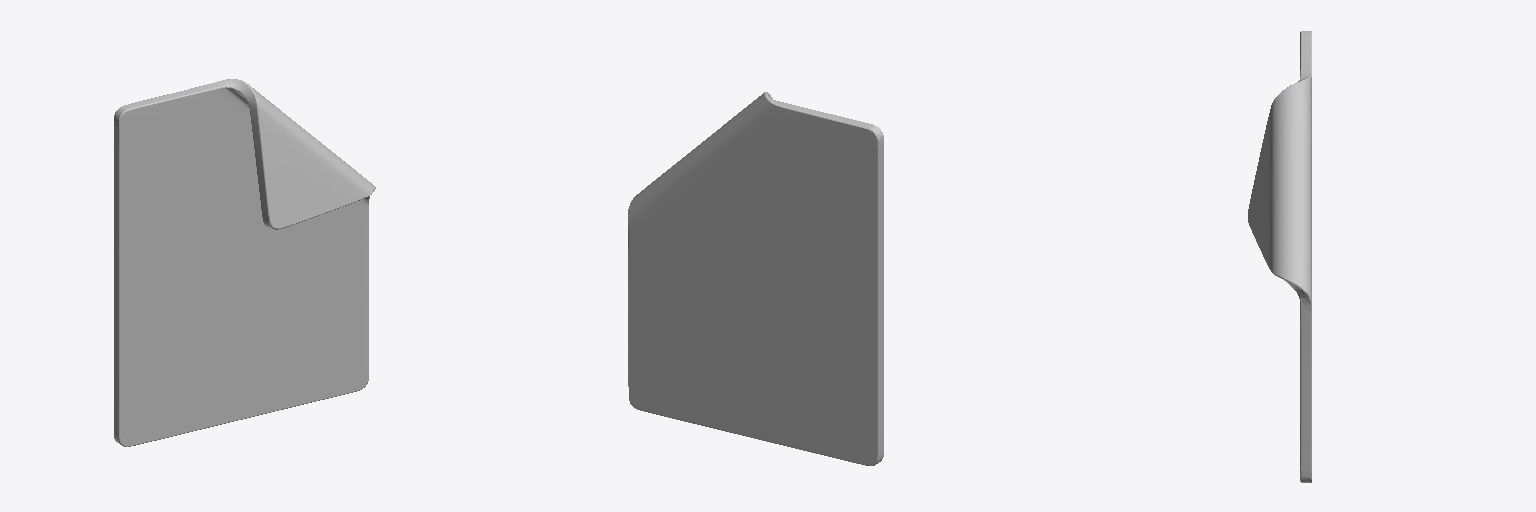
Rendered from file_light.obj.
3 renders of one model, left to right at view 1: azimuth 30°, elevation 25°; view 2: azimuth 150°, elevation 25°; view 3: azimuth 270°, elevation 25°, orthographic.
Size of the model in its own units: 1.48 by 1.91 by 0.3277.